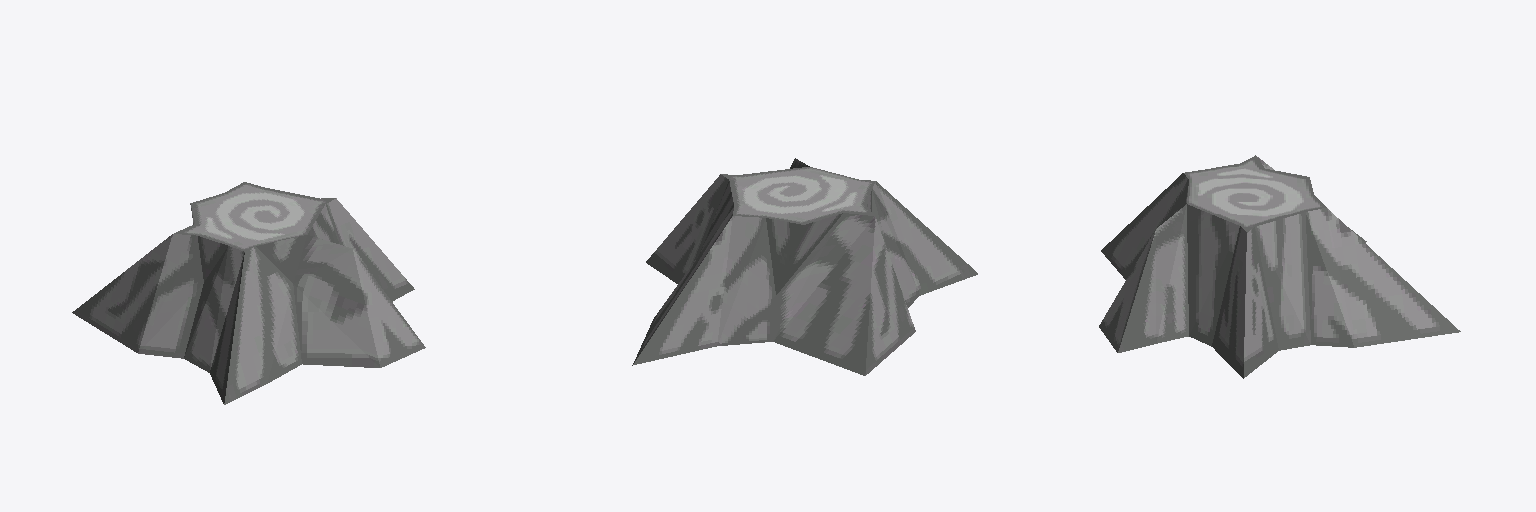
3 renders of one model, left to right at view 1: azimuth 30°, elevation 25°; view 2: azimuth 150°, elevation 25°; view 3: azimuth 270°, elevation 25°, orthographic.
Visible parts, largest first — view 1: Mesh_0011; view 2: Mesh_0011; view 3: Mesh_0011.
Part boxes in pixels (x1,y1,x2,y2): Mesh_0011: (72,182,425,404); Mesh_0011: (632,158,977,375); Mesh_0011: (1099,155,1460,378).
Size of the model in its own units: 1.88 by 0.6902 by 2.09.
1 materials, 1 textured.